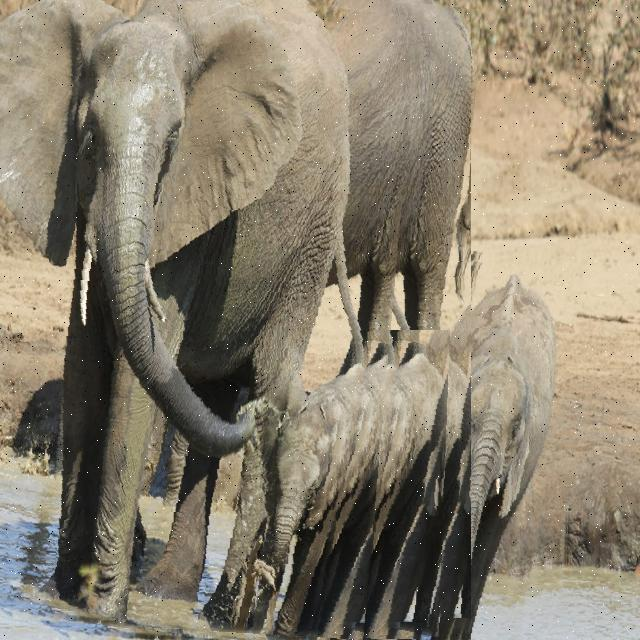elephant: (0, 0, 420, 640), (228, 0, 471, 620), (399, 250, 569, 640), (276, 330, 450, 640)
